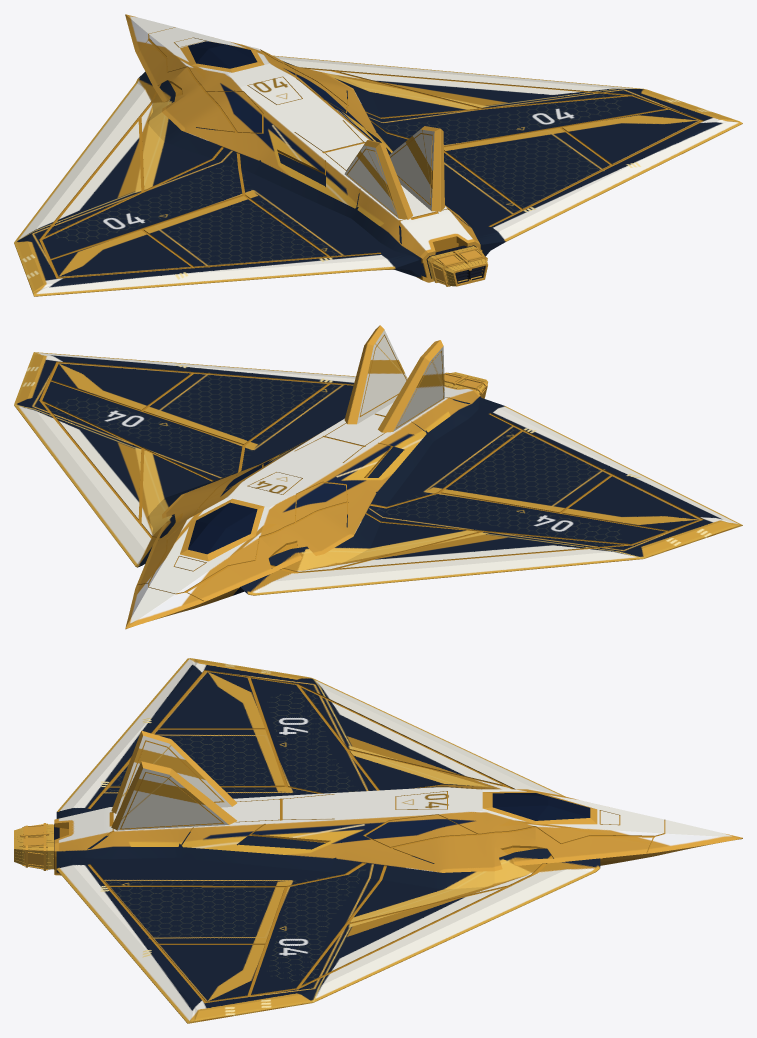
The model's file is royal-white.glb.
3 renders of one model, top to bottom at view 1: azimuth 30°, elevation 25°; view 2: azimuth 150°, elevation 25°; view 3: azimuth 270°, elevation 25°, orthographic. The views are drawn at different scales.
Parts seen in each view (by area): view 1: CENTER_AF04_BODY_CENTER, STYLE_A_TWIN_FIN_1, STYLE_A_TWIN_FIN_-1, CENTER_AF04_CANOPY_0, CENTER_AF04_CENTER_CANOPY_FRAME_USER; view 2: CENTER_AF04_BODY_CENTER, STYLE_A_TWIN_FIN_1, STYLE_A_TWIN_FIN_-1, CENTER_AF04_CANOPY_0, CENTER_AF04_CENTER_CANOPY_FRAME_USER; view 3: CENTER_AF04_BODY_CENTER, STYLE_A_TWIN_FIN_1, STYLE_A_TWIN_FIN_-1, CENTER_AF04_CANOPY_0, CENTER_AF04_CENTER_CANOPY_FRAME_USER.
Boxes of the visible parts, x1,y1,x2,y2 form: CENTER_AF04_BODY_CENTER: [14, 14, 742, 296]; STYLE_A_TWIN_FIN_1: [389, 126, 444, 212]; STYLE_A_TWIN_FIN_-1: [344, 140, 412, 219]; CENTER_AF04_CANOPY_0: [188, 41, 257, 68]; CENTER_AF04_CENTER_CANOPY_FRAME_USER: [180, 41, 264, 72]; CENTER_AF04_BODY_CENTER: [14, 352, 742, 629]; STYLE_A_TWIN_FIN_1: [344, 325, 407, 424]; STYLE_A_TWIN_FIN_-1: [378, 340, 444, 432]; CENTER_AF04_CANOPY_0: [188, 502, 257, 554]; CENTER_AF04_CENTER_CANOPY_FRAME_USER: [180, 498, 264, 561]; CENTER_AF04_BODY_CENTER: [54, 658, 742, 1023]; STYLE_A_TWIN_FIN_1: [111, 761, 236, 830]; STYLE_A_TWIN_FIN_-1: [111, 730, 236, 813]; CENTER_AF04_CANOPY_0: [492, 793, 590, 820]; CENTER_AF04_CENTER_CANOPY_FRAME_USER: [482, 791, 597, 824].
Size of the model in its own units: 15.89 by 2.51 by 13.42.
12 materials, 3 textured.
